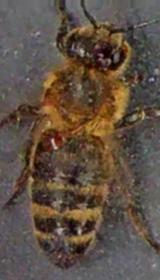varroa_mite: (36, 122, 70, 160)
